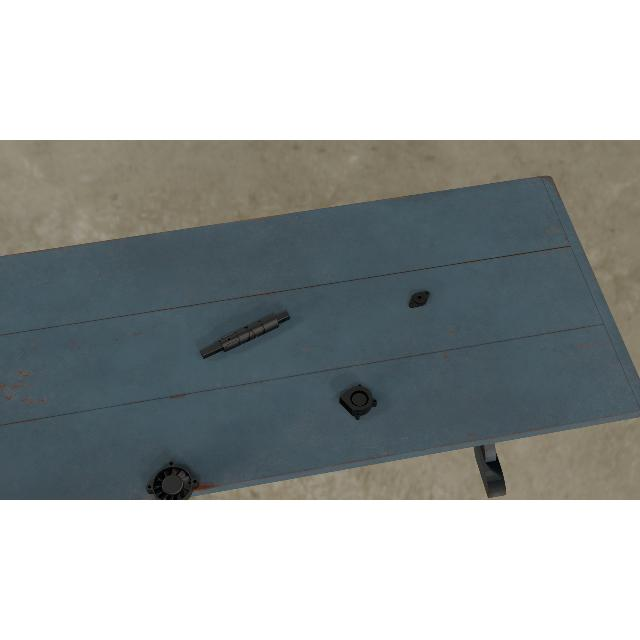Pieza1: (198, 306, 292, 364)
Pieza2: (404, 286, 434, 312)
Pieza3: (339, 381, 379, 422)
Pieza4: (144, 458, 202, 499)
